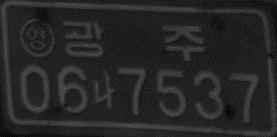0: (19, 66, 50, 115)
3: (192, 70, 224, 121)
5: (156, 69, 187, 118)
6: (56, 65, 88, 114)
7: (228, 72, 260, 123), (117, 66, 147, 114)
광주_D: (63, 21, 205, 61)
나: (91, 71, 115, 109)
영: (19, 18, 55, 59)
